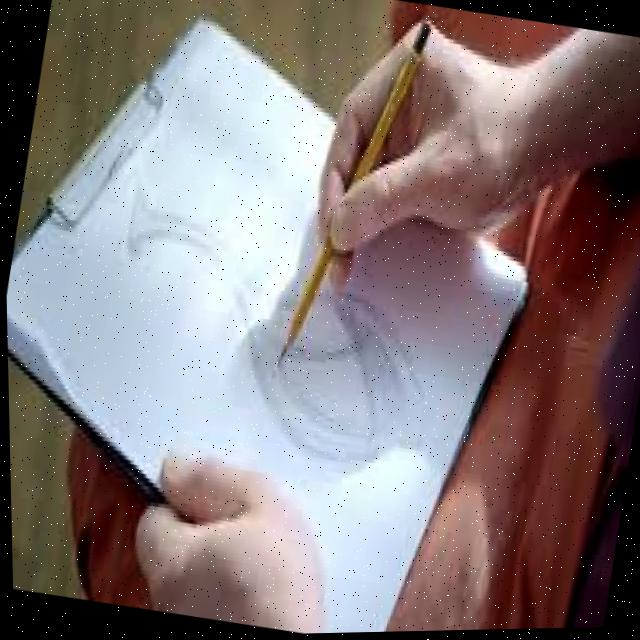pencil: (270, 11, 440, 382)
